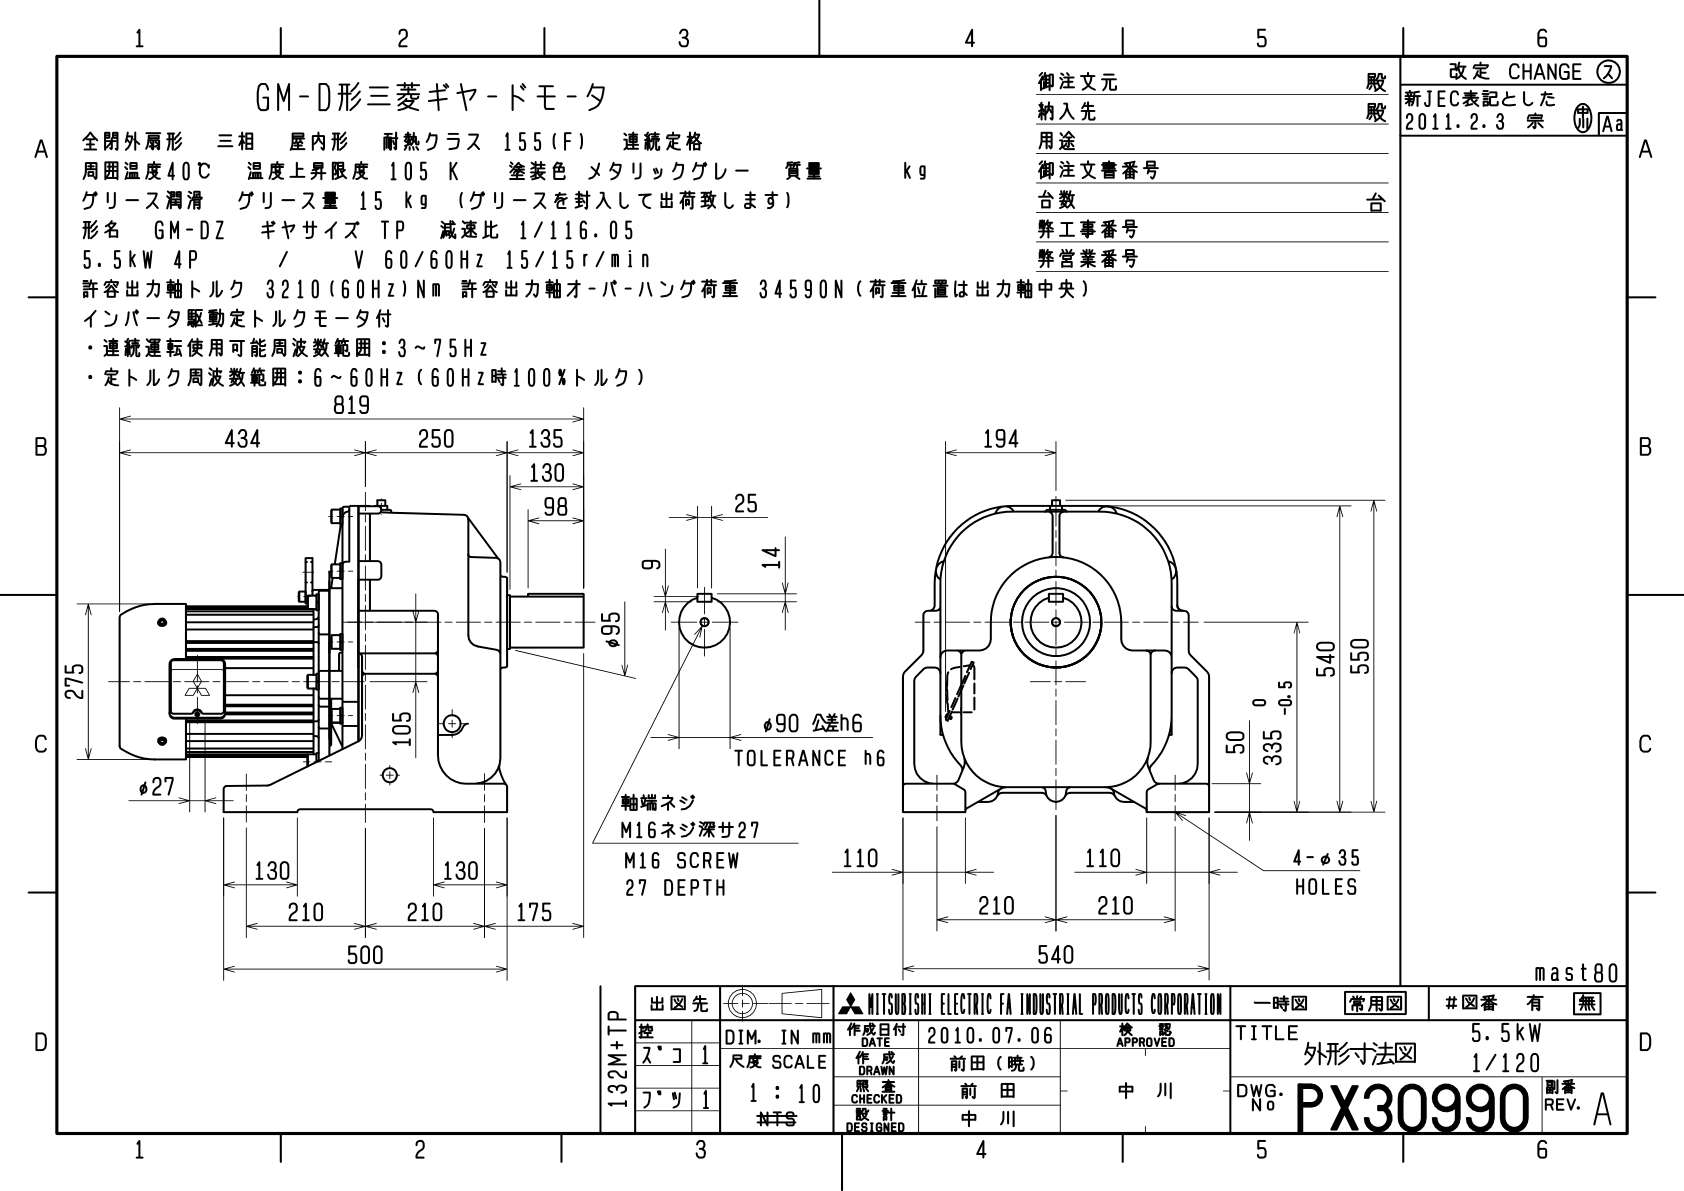GM_D_インバータ屋内_三相_脚: (1, 1, 1675, 1176)
